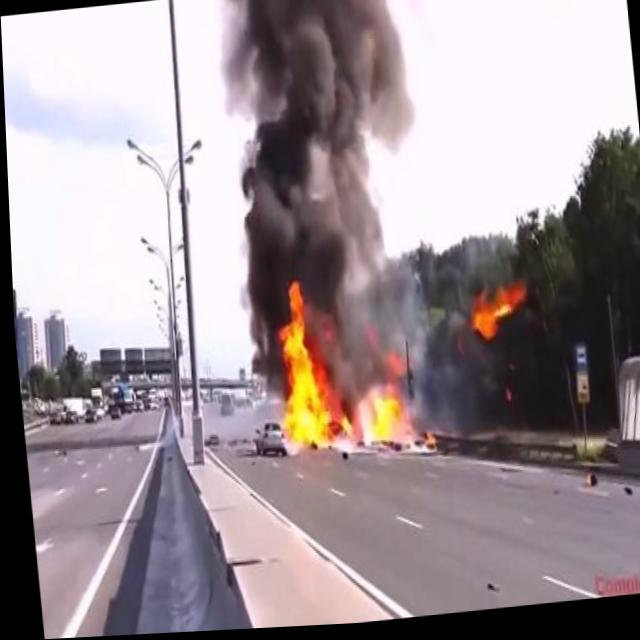fire: (262, 273, 353, 462), (461, 277, 534, 352), (352, 382, 416, 465), (419, 432, 433, 463)
